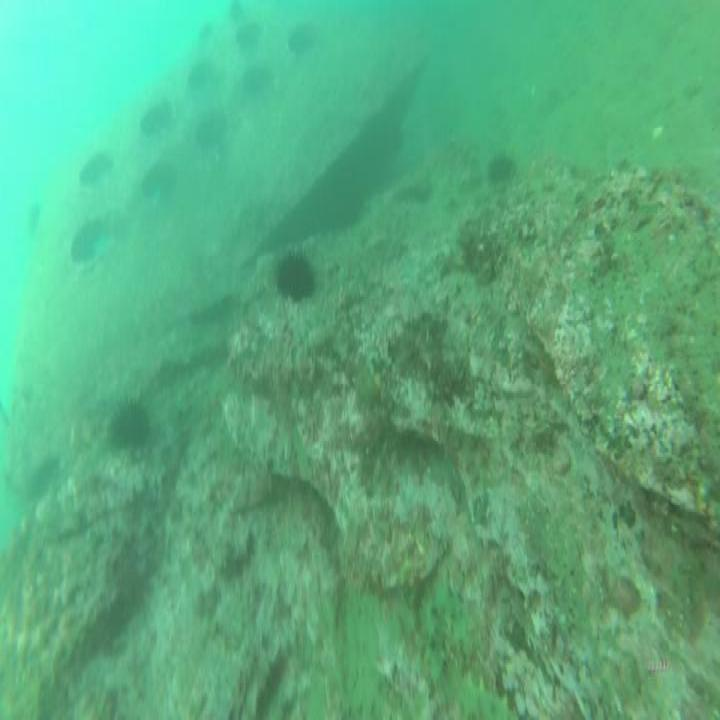echinus: (274, 247, 319, 306), (104, 395, 154, 448), (483, 146, 517, 194)
holothurian: (417, 574, 470, 676)
